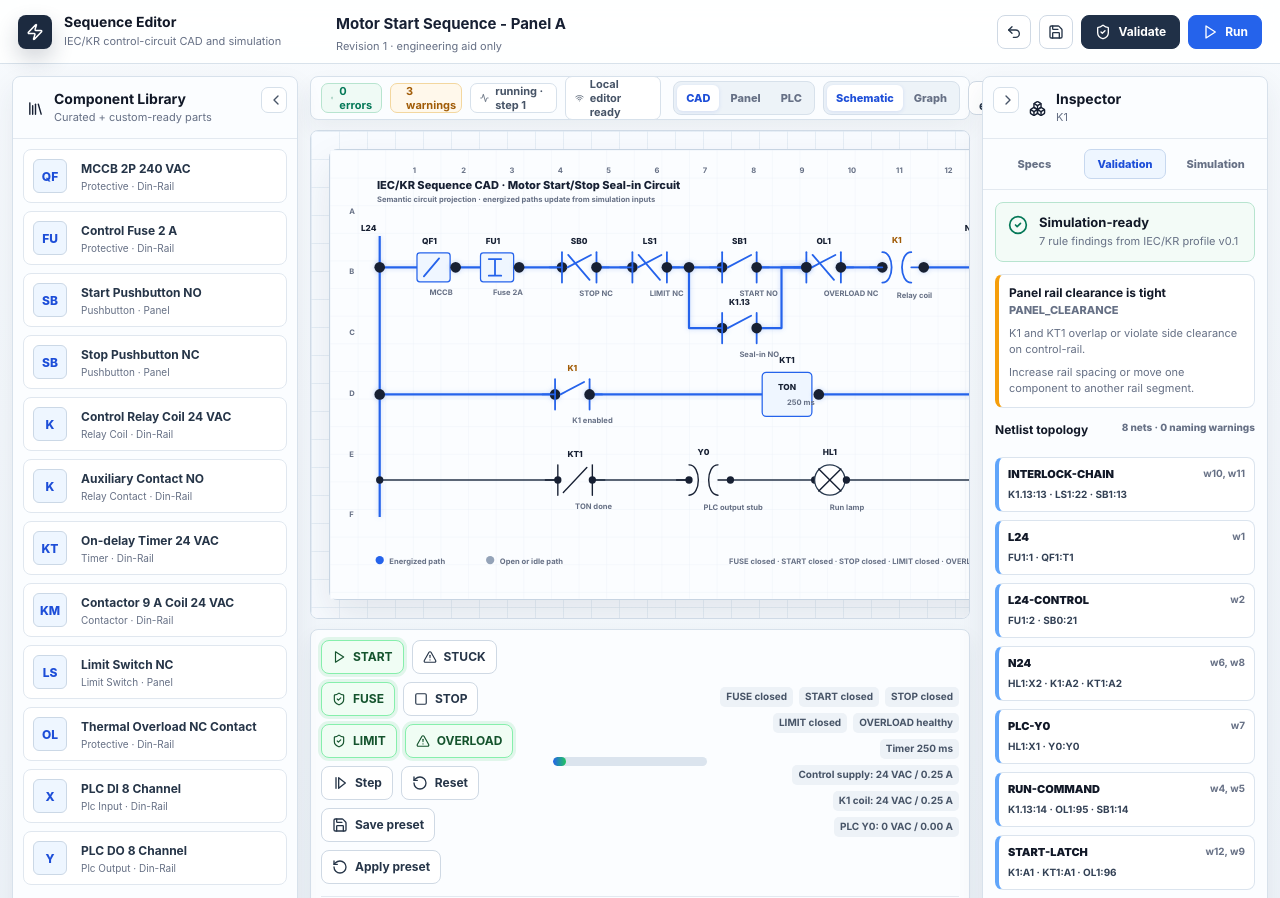
Test: Sequence Editor app › lets the operator force a stuck START contact and still stop the sequence
Click the button "Reset".
click(440, 783)  # box [401,766,479,800]
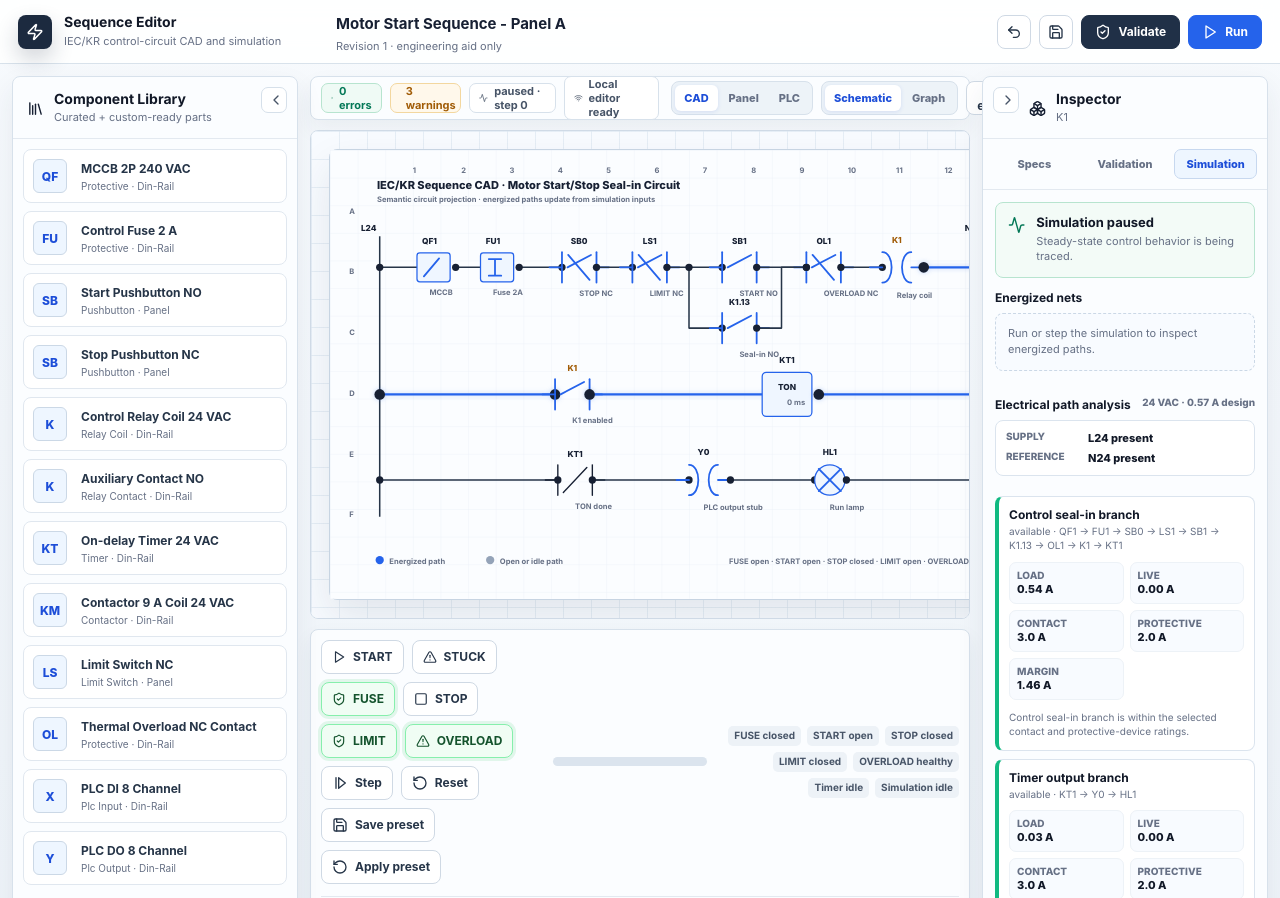
Click the button with aria-label "START stuck fault".
click(454, 657)  # box [412,640,497,674]
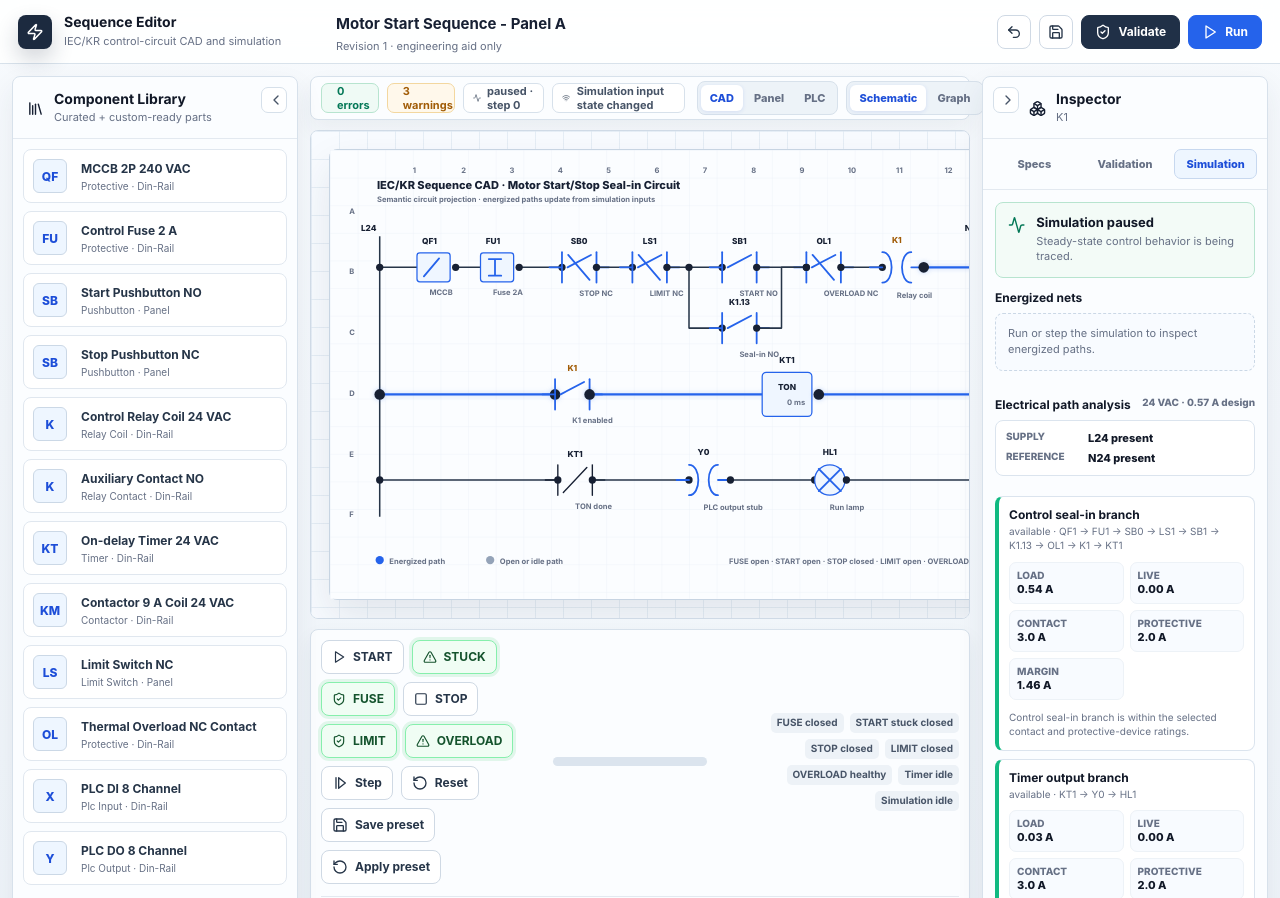
Click the button "Step".
click(357, 783)  # box [321,766,393,800]
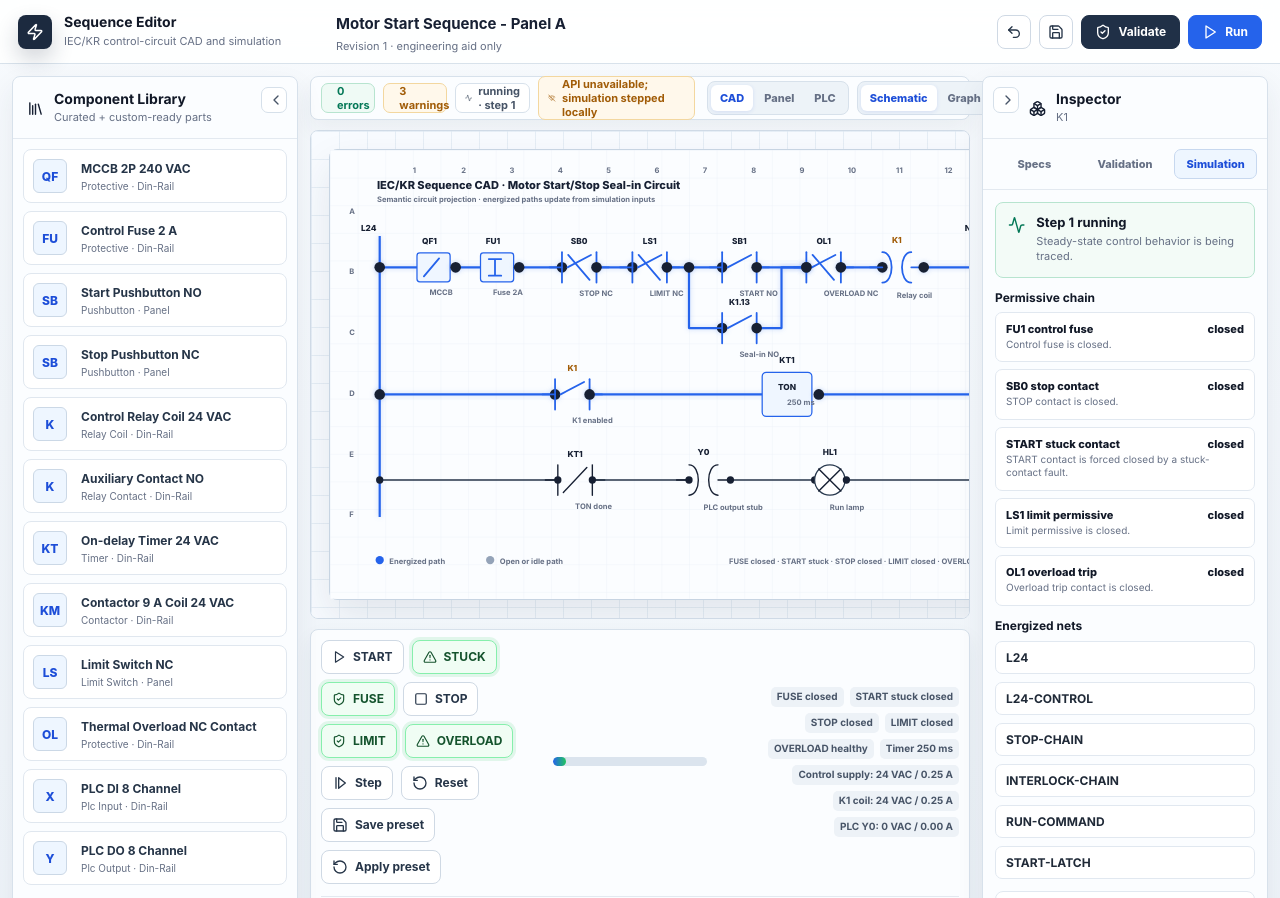
Expected: the text "START stuck closed" is shown, [850,687,959,707]
Expected: the text "Step 1 running" is shown, [1036,215,1127,231]
Expected: the text "K1 coil: 24 VAC / 0.25 A" is shown, [833,791,959,811]
Click the button "STOP".
click(441, 699)  # box [403,682,478,716]
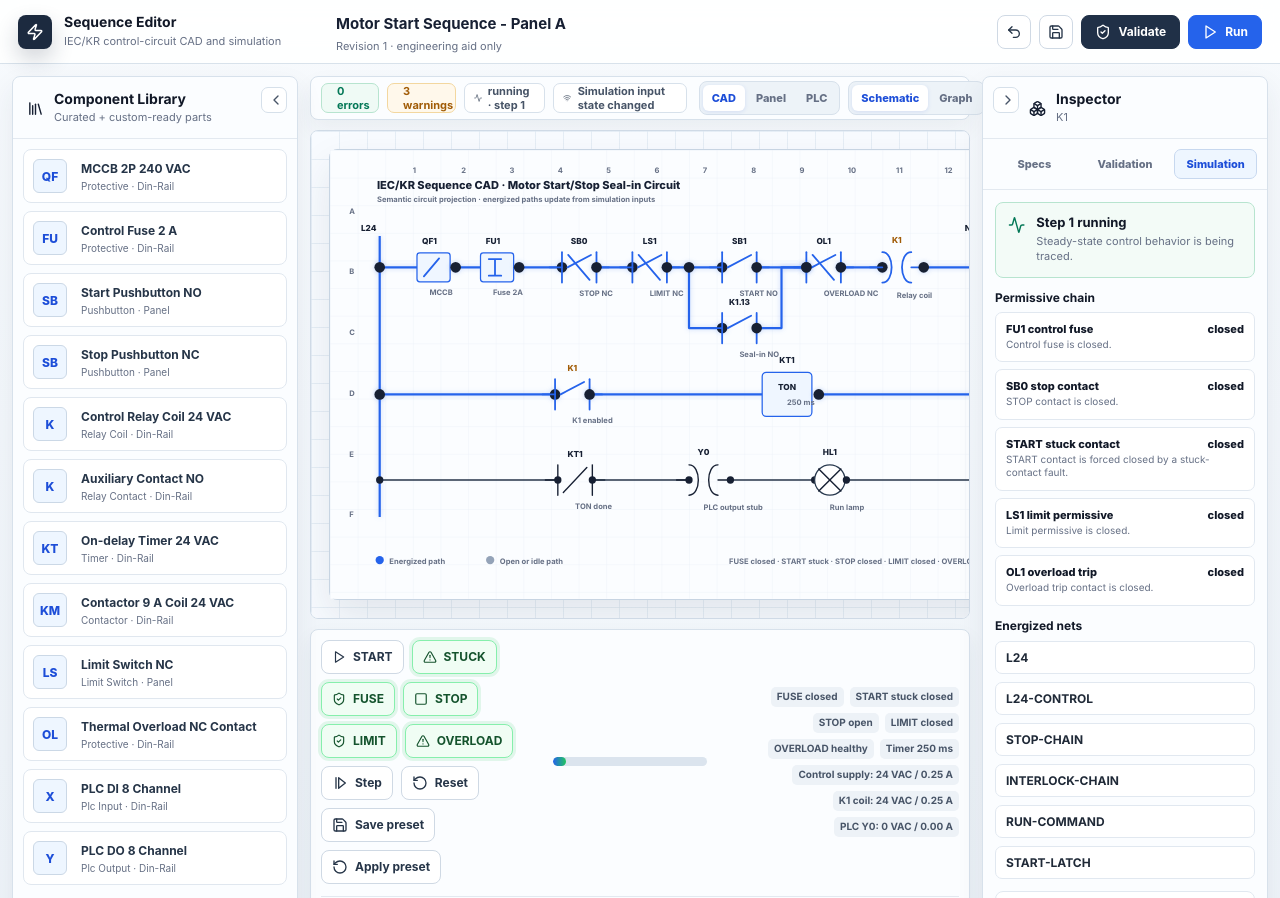
Click the button "Step".
click(357, 783)  # box [321,766,393,800]
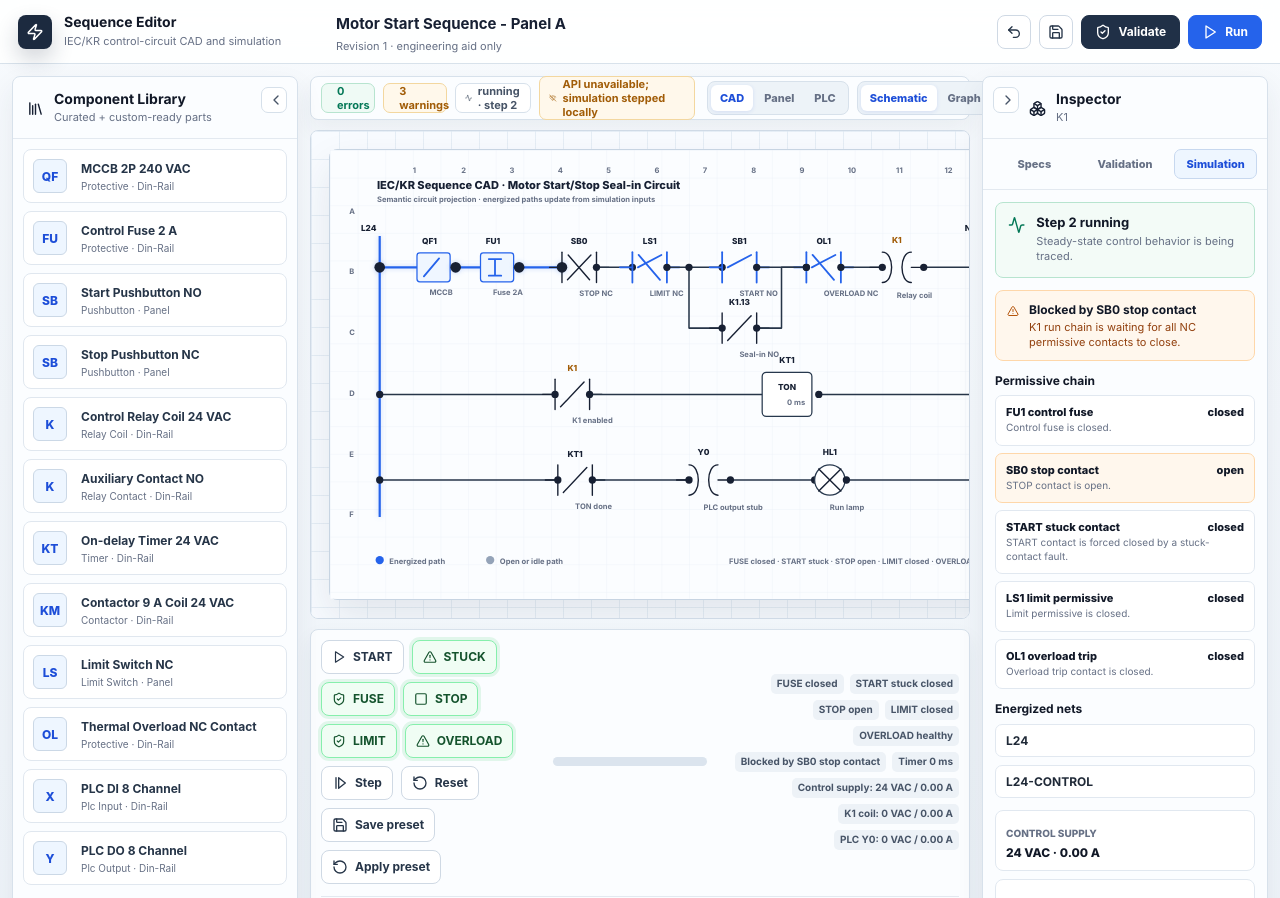
Expected: the text "STOP open" is shown, [813,700,879,720]
Expected: the text "Step 2 running" is shown, [1036,215,1129,231]
Expected: the text "K1 coil: 0 VAC / 0.00 A" is shown, [838,804,959,824]
